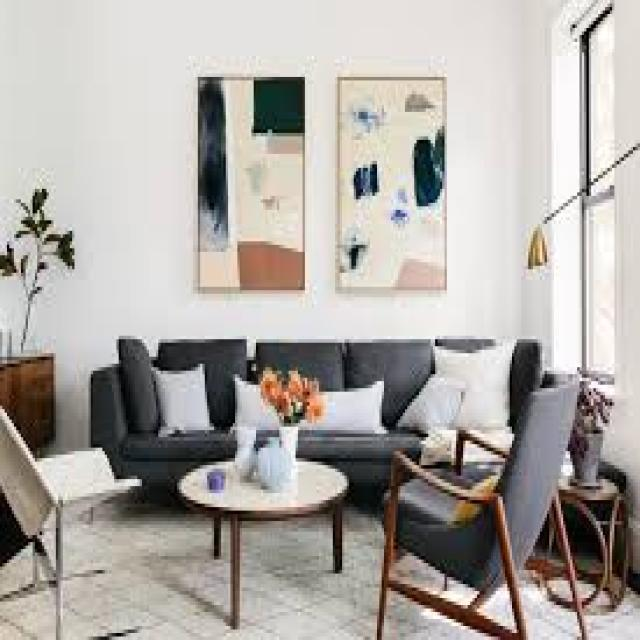Chair: (369, 350, 590, 640), (0, 400, 147, 640)
Sofa: (78, 316, 554, 494)
Table: (169, 448, 359, 624)
